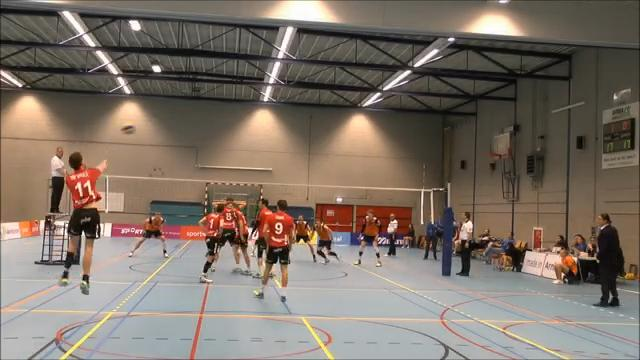Player: (254, 200, 294, 301), (219, 197, 250, 274), (199, 205, 223, 282), (129, 212, 167, 257), (251, 198, 271, 277), (354, 210, 381, 266), (314, 220, 339, 263), (234, 212, 251, 274), (295, 215, 316, 261)
Serve: (55, 151, 111, 297)
ball: (120, 122, 136, 138)
